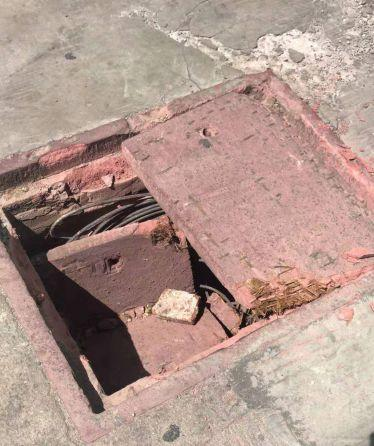wellcover: (4, 73, 374, 416)
